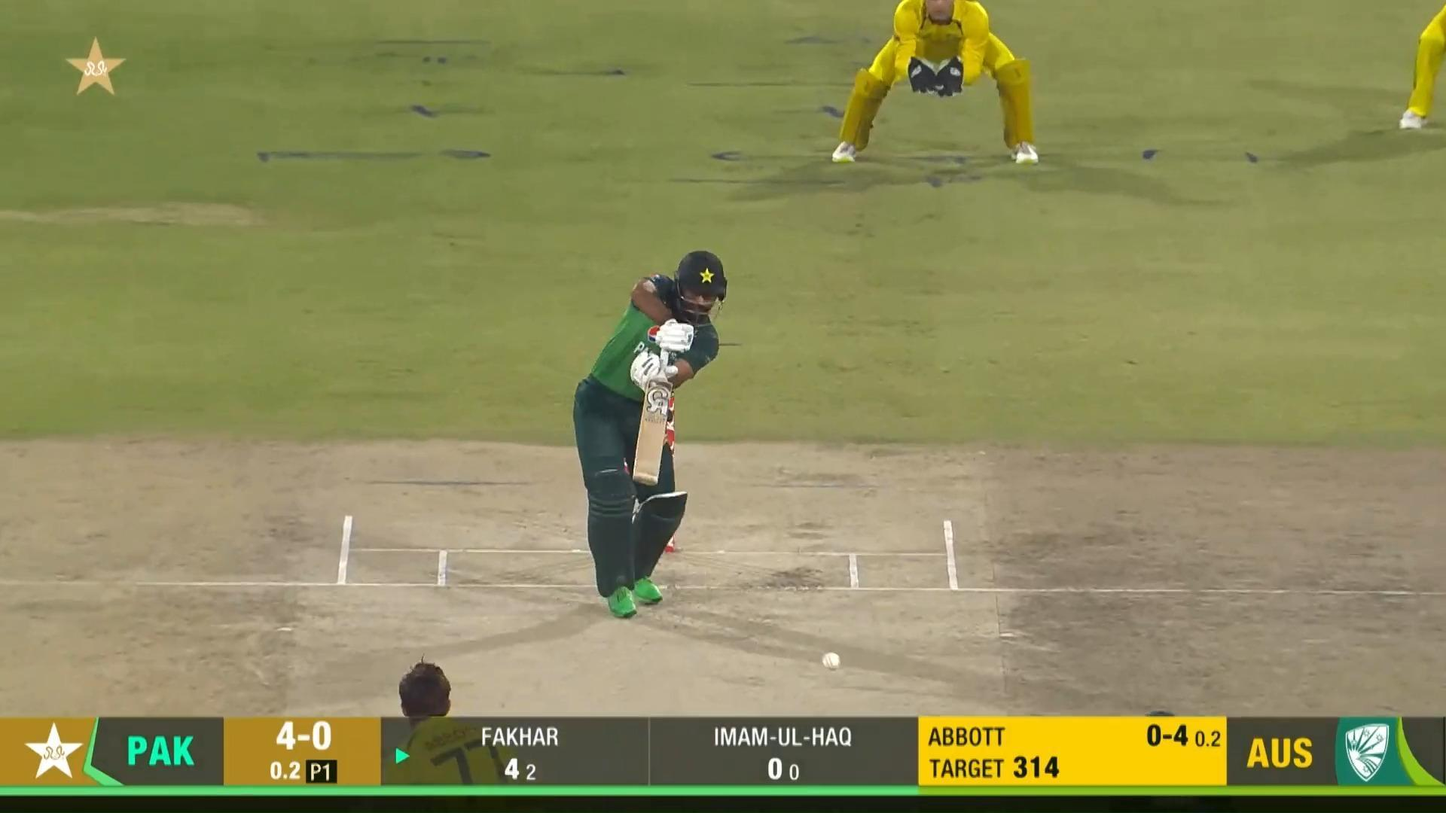BM 1: (572, 250, 728, 618)
BO: (381, 657, 526, 813)
